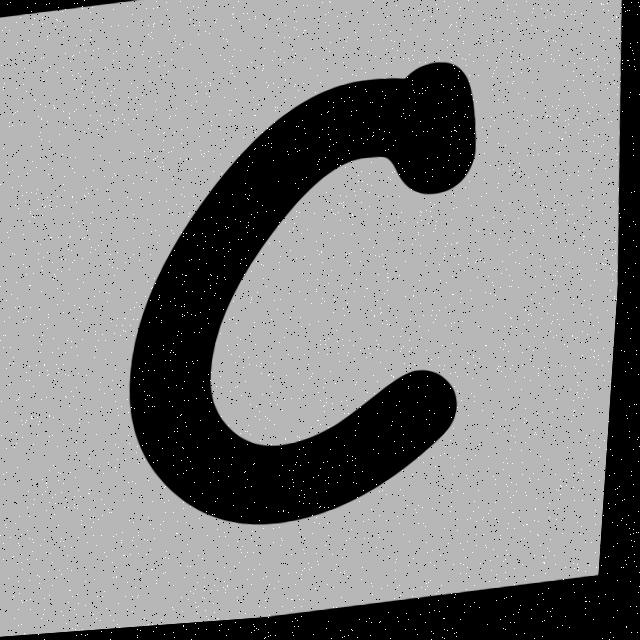C: (137, 70, 477, 528)
